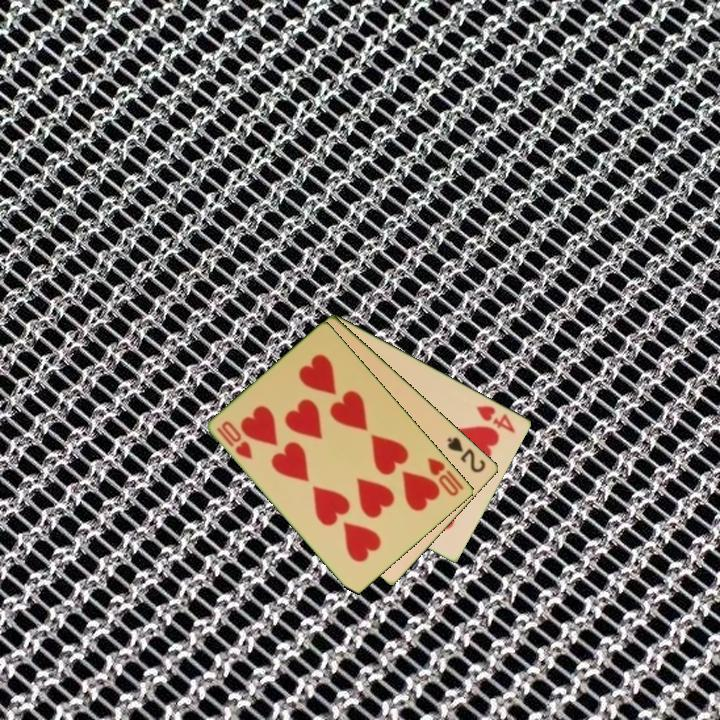10h: (424, 454, 467, 499), (213, 417, 256, 462)
2s: (444, 433, 489, 475)
4h: (473, 402, 519, 436)
